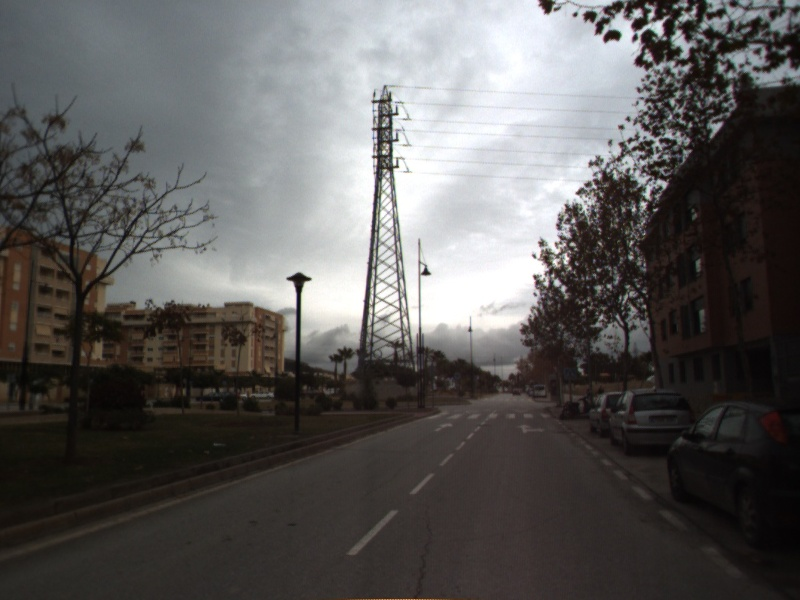STRAIGHT: (431, 420, 456, 433)
STRAIGHT_RIGHT: (513, 422, 549, 435)
